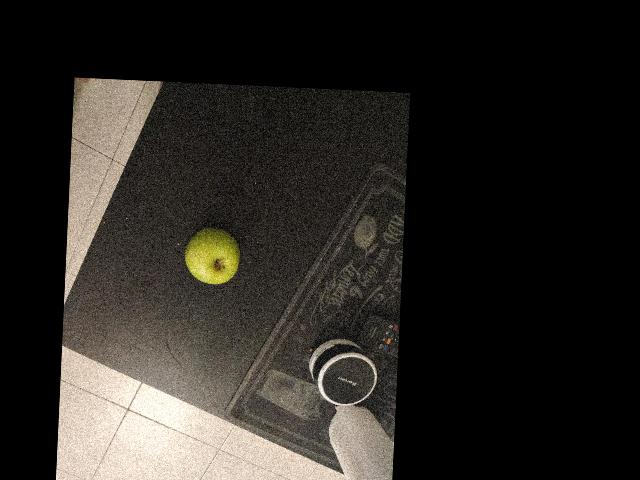apple: (88, 349, 156, 413)
